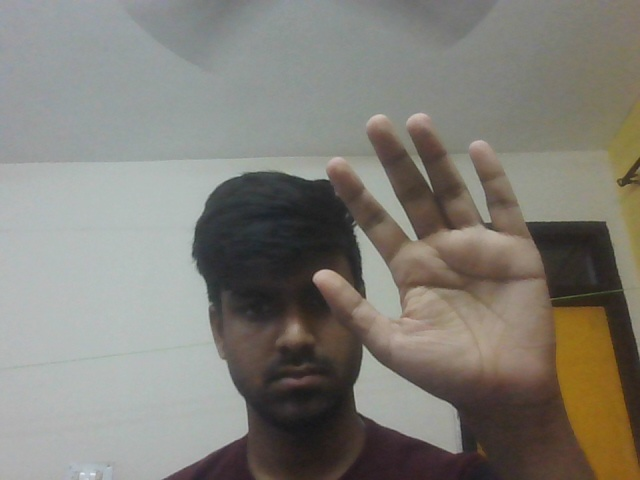hello: (297, 108, 614, 445)
